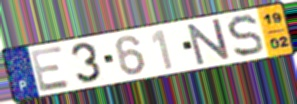1: (150, 28, 174, 71)
3: (69, 40, 104, 85)
6: (113, 34, 147, 77)
E: (28, 44, 73, 94)
N: (185, 17, 233, 68)
S: (225, 13, 266, 59)
